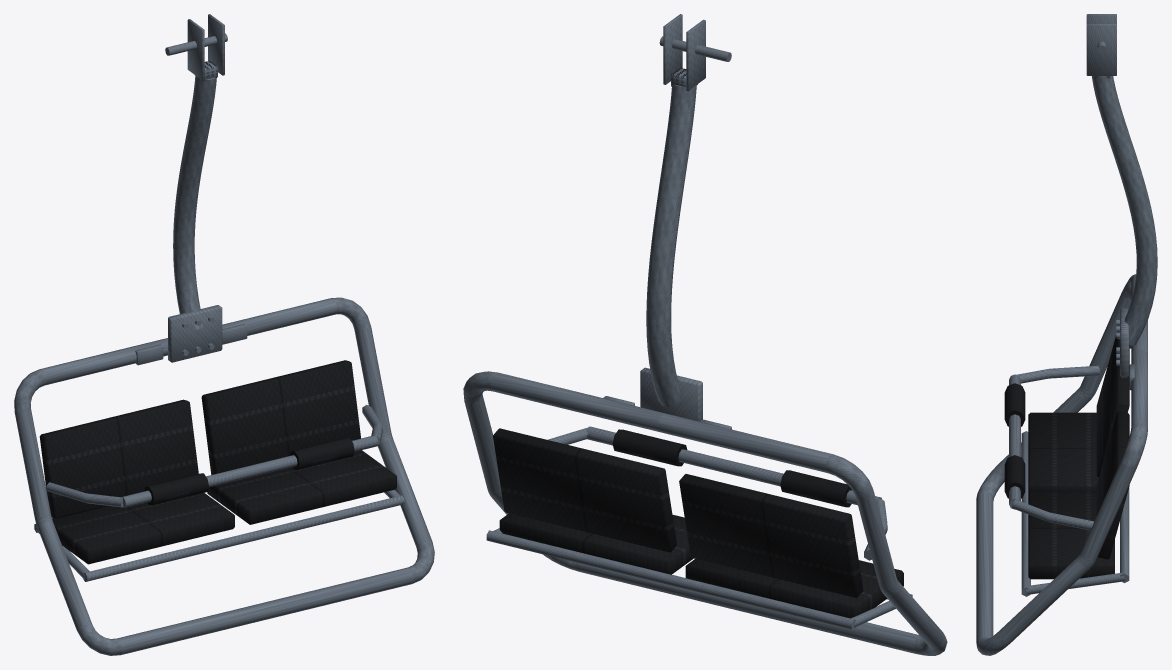
Rendered from chair.glb.
3 renders of one model, left to right at view 1: azimuth 30°, elevation 25°; view 2: azimuth 150°, elevation 25°; view 3: azimuth 270°, elevation 25°, orthographic. The views are drawn at different scales.
Parts seen in each view (by area): view 1: Chair; view 2: Chair; view 3: Chair.
Boxes of the visible parts, x1=… form: Chair: x1=14, y1=14, x2=434, y2=655; Chair: x1=463, y1=14, x2=947, y2=655; Chair: x1=976, y1=14, x2=1157, y2=655.
Size of the model in its own units: 2.19 by 3.28 by 0.9601.
1 material, 1 textured.
